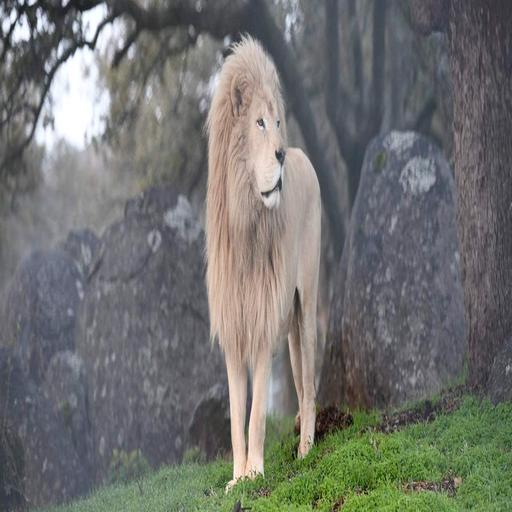Lion: (198, 33, 340, 505)
